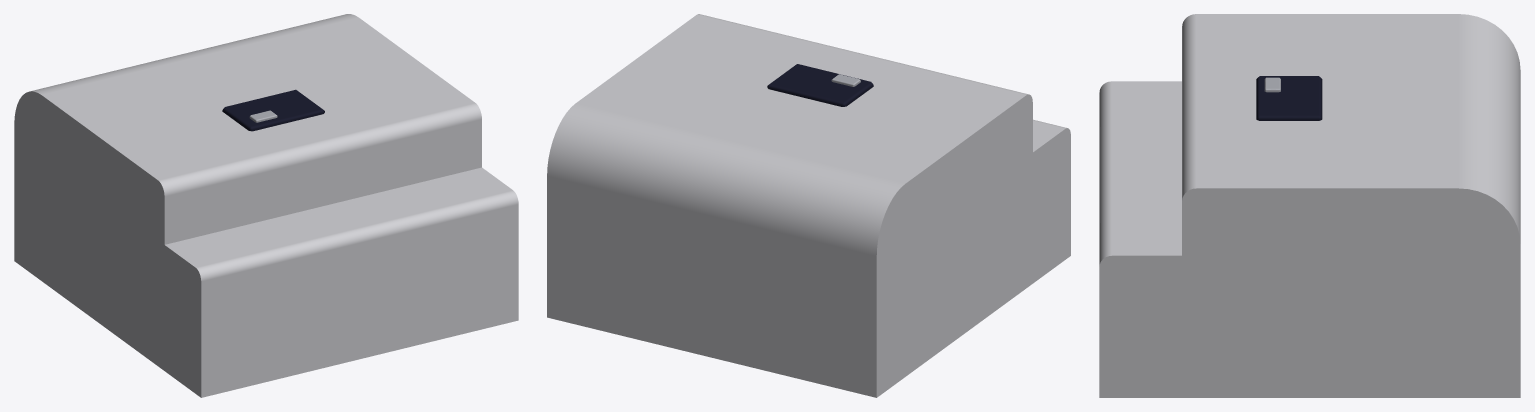
Rendered from roof.shoulder.straight.plain.s2.glb.
The picture shows the model from 3 angles, left to right: view 1: azimuth 30°, elevation 25°; view 2: azimuth 150°, elevation 25°; view 3: azimuth 270°, elevation 25°; orthographic projection. The views are drawn at different scales.
Visible parts, largest first — view 1: roof.shoulder.straight.plain.s2; view 2: roof.shoulder.straight.plain.s2; view 3: roof.shoulder.straight.plain.s2.
Part boxes in pixels (x1,y1,x2,y2): roof.shoulder.straight.plain.s2: [14, 14, 518, 397]; roof.shoulder.straight.plain.s2: [547, 14, 1070, 397]; roof.shoulder.straight.plain.s2: [1099, 14, 1520, 397].
Size of the model in its own units: 1 by 0.58 by 1.02.
